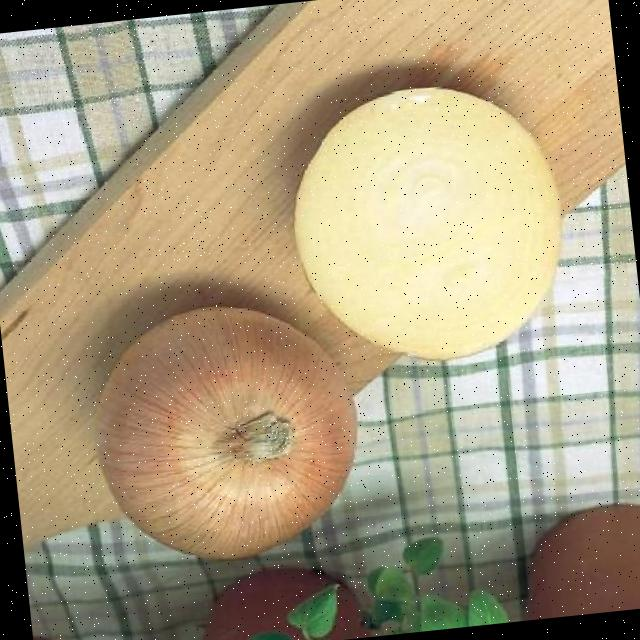Onion: (95, 307, 354, 556)
